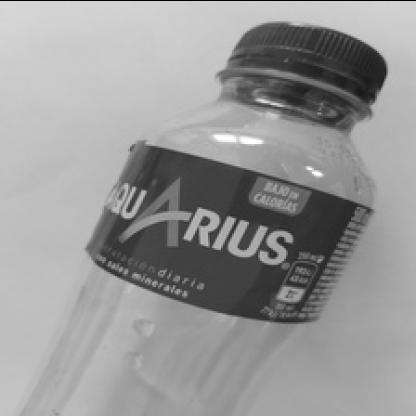plastic_bottles: (18, 16, 394, 416)
